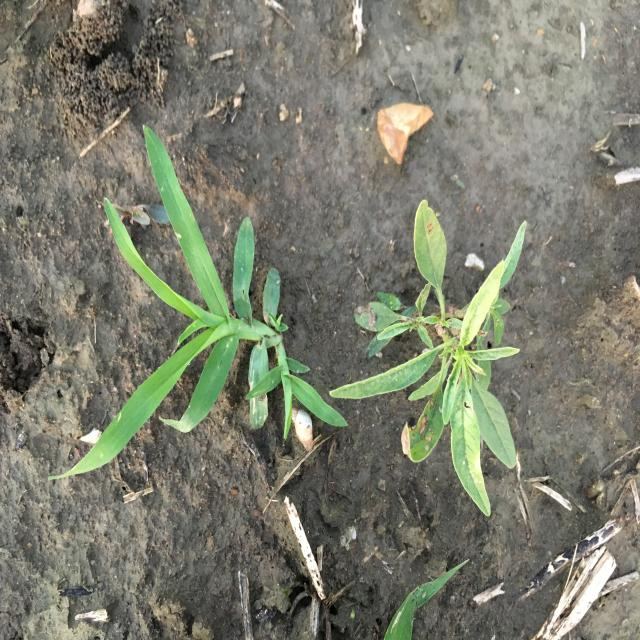Goosegrass: (46, 123, 350, 484)
Waterhemp: (328, 199, 528, 519)
